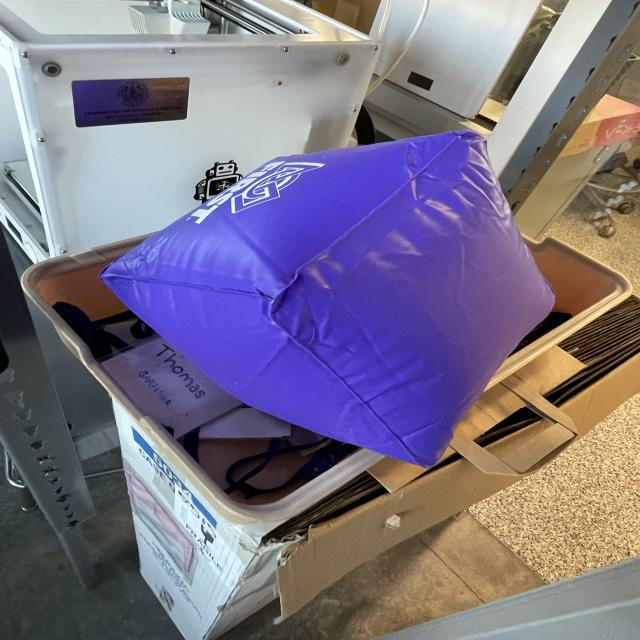frc_cube: (104, 124, 560, 472)
